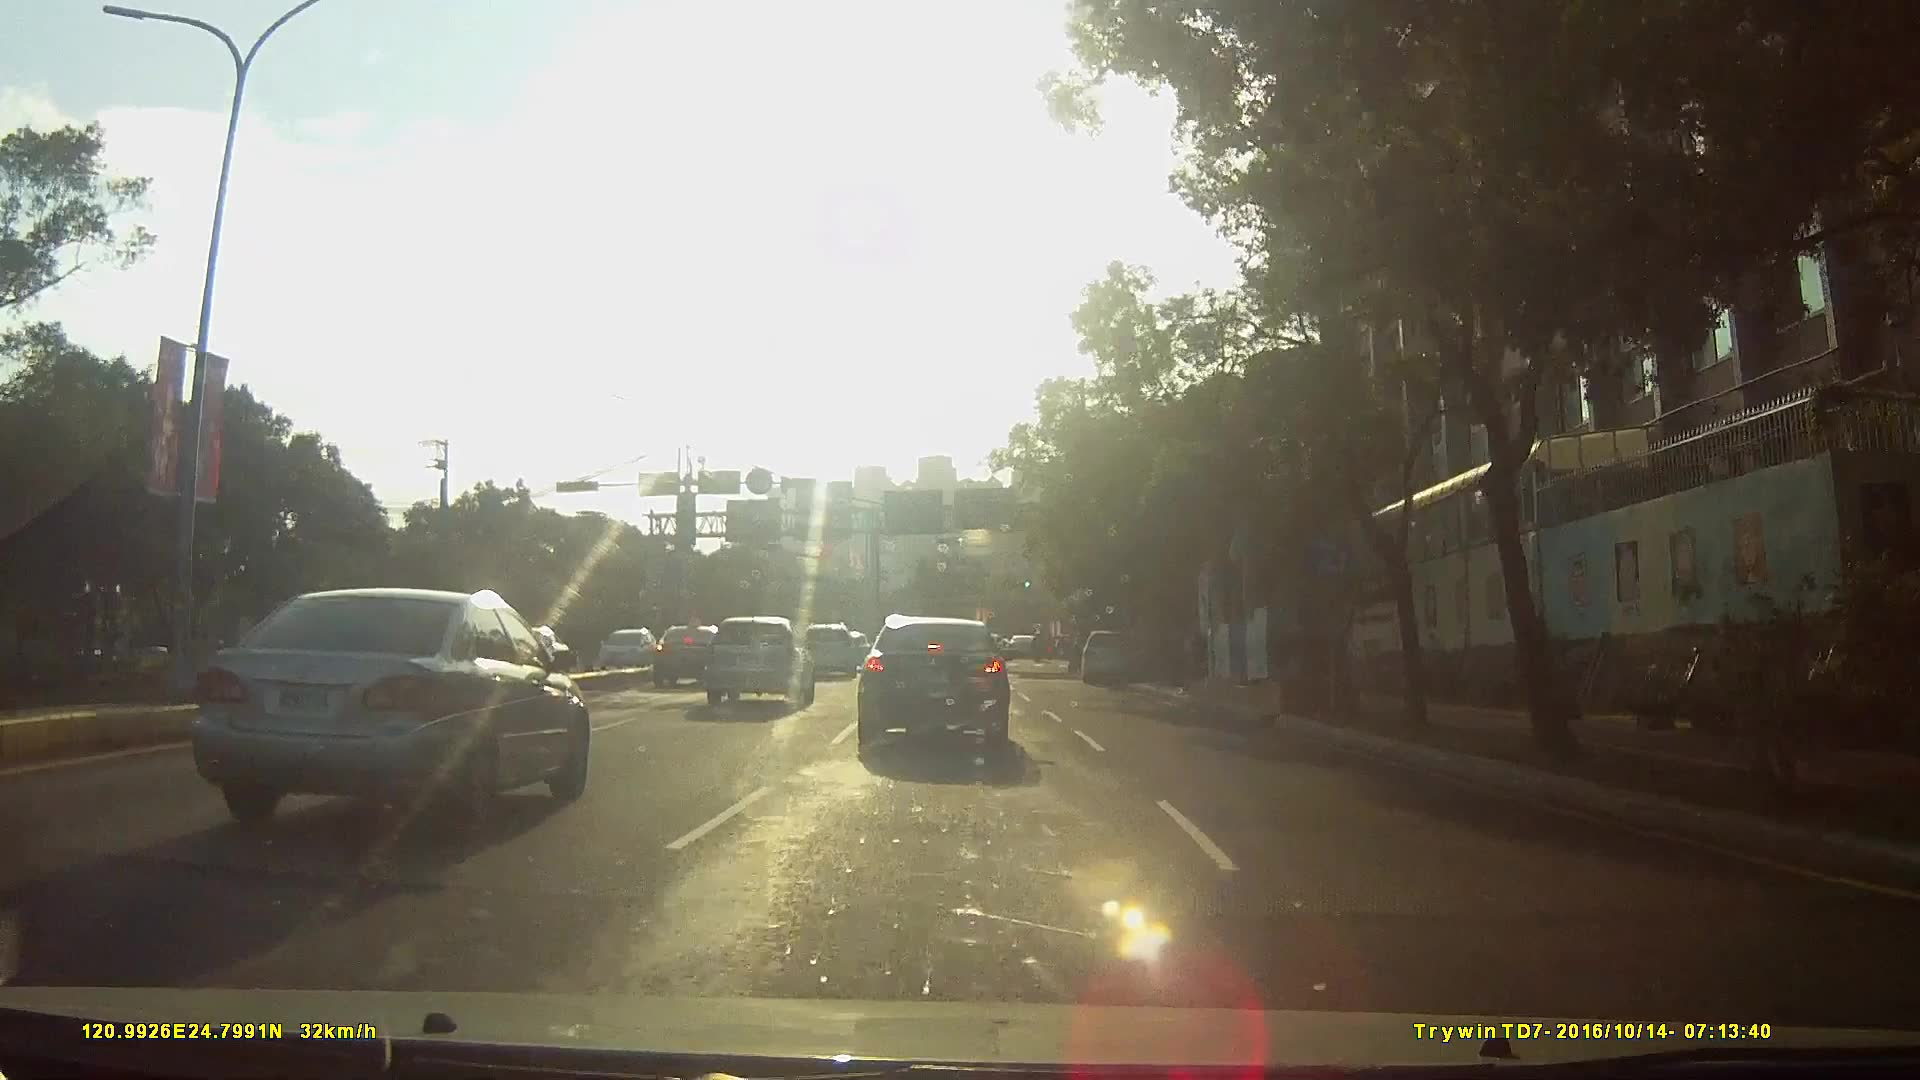vehicle: (170, 574, 599, 843), (853, 607, 1033, 761), (699, 611, 814, 707), (637, 618, 717, 682), (795, 616, 858, 676), (1081, 624, 1145, 679), (591, 624, 662, 670)
